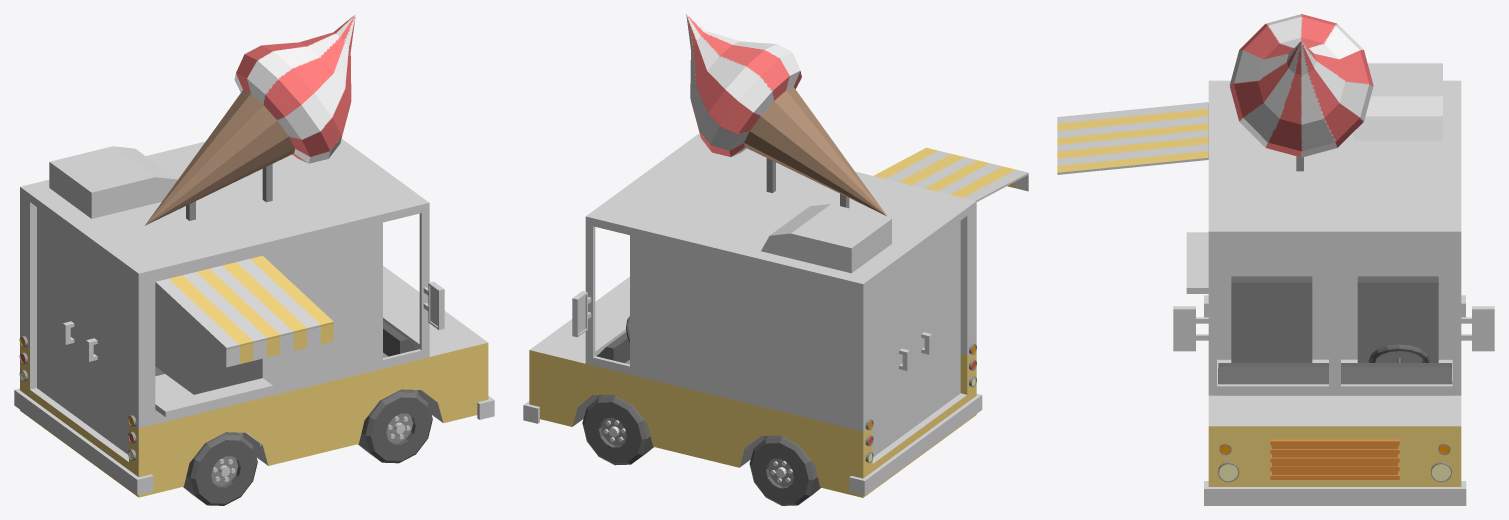
The model's file is ice-cream-truck.glb.
3 renders of one model, left to right at view 1: azimuth 30°, elevation 25°; view 2: azimuth 150°, elevation 25°; view 3: azimuth 270°, elevation 25°, orthographic. The views are drawn at different scales.
Parts seen in each view (by area): view 1: Ice Cream Truck; view 2: Ice Cream Truck; view 3: Ice Cream Truck.
Part boxes in pixels (bbox=[...]): Ice Cream Truck: bbox=[14, 14, 494, 505]; Ice Cream Truck: bbox=[523, 14, 1028, 505]; Ice Cream Truck: bbox=[1057, 14, 1494, 505].
Bounding box in the file's own units: 2.51 × 2.81 × 2.49.
Materials: 1 (1 with a texture image).
